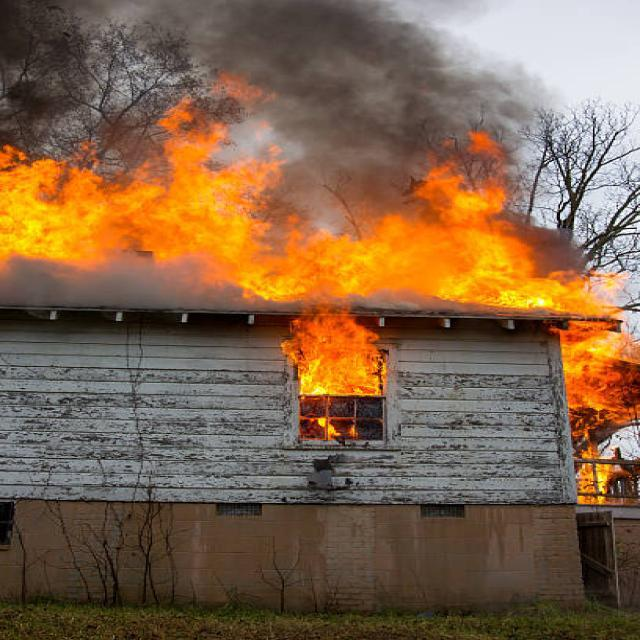Fire: (0, 107, 589, 298), (289, 307, 401, 443), (567, 306, 640, 471)
Smoke: (94, 0, 568, 224)
